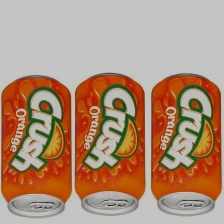can: (71, 64, 148, 218), (0, 68, 74, 223), (150, 70, 222, 220)
